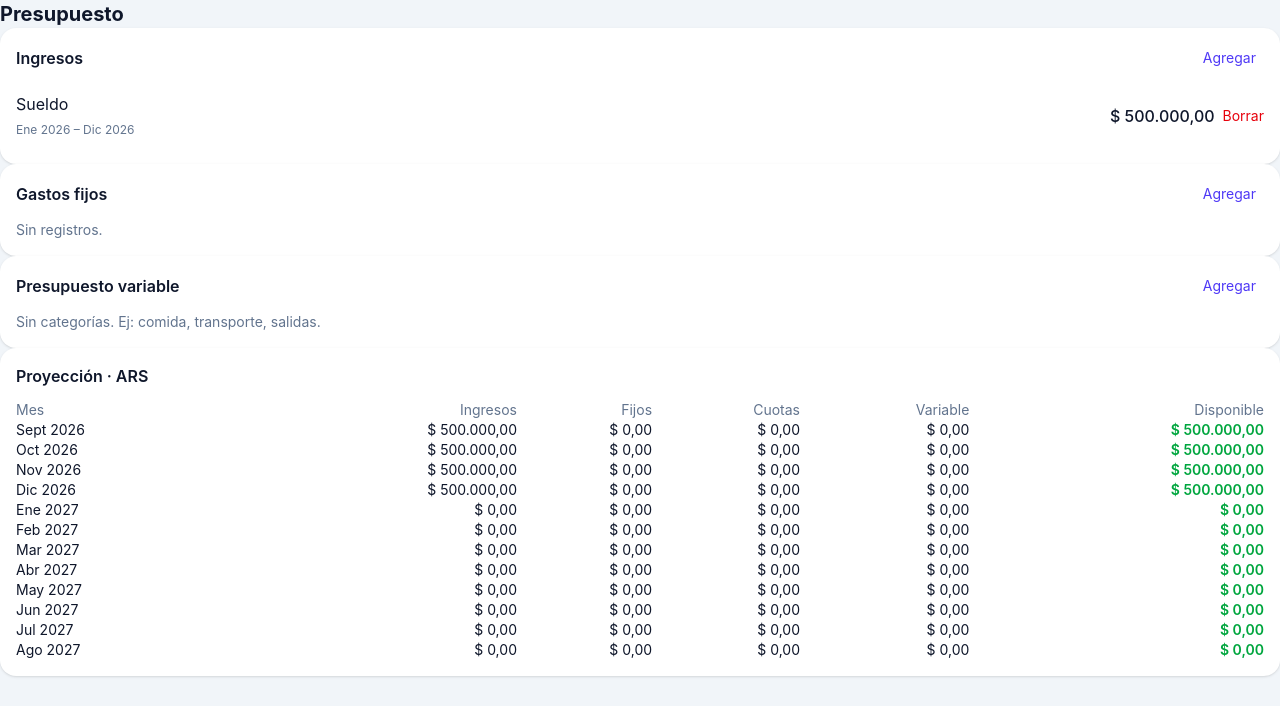
Scenario: BudgetPage › editar un ingreso y vaciar Mes de fin lo deja sin fin
Click the button "Sueldo ene 2026 – dic 2026": [42, 104] box [16,92,1102,140]
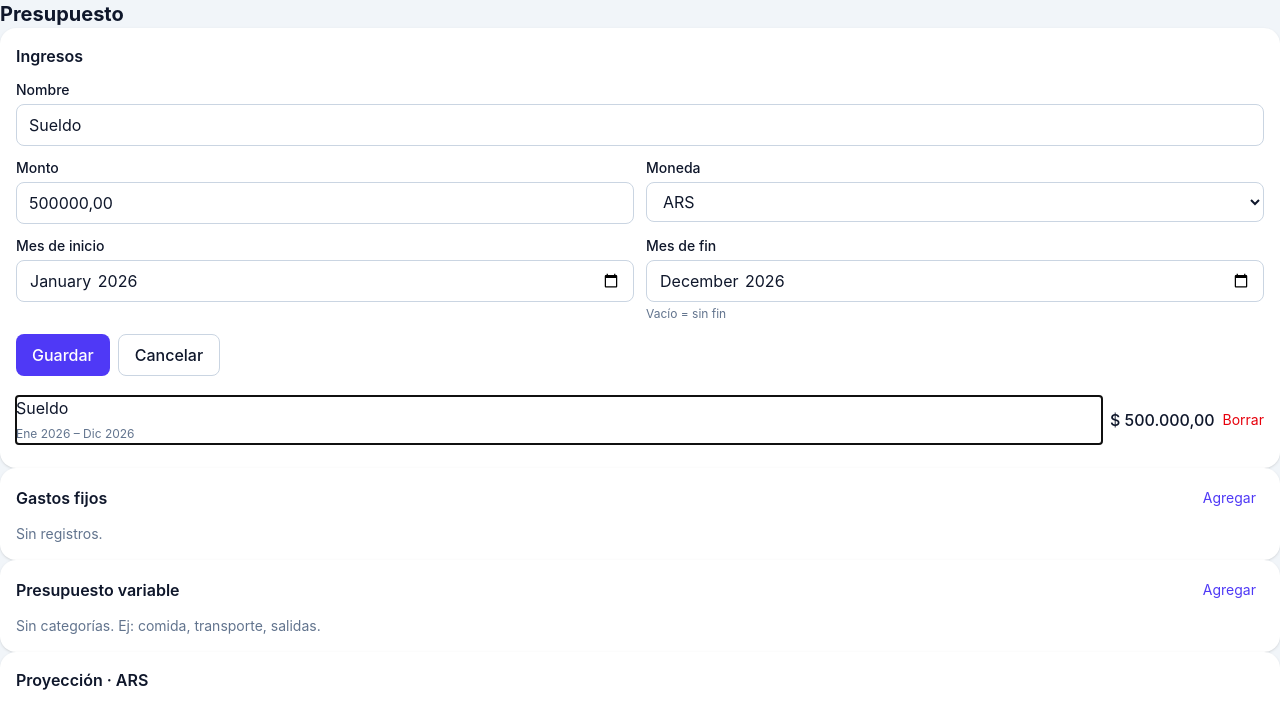
Expected: the field labelled "Mes de fin" holds "2026-12"
Clear the field labelled "Mes de fin": [955, 281] box [646,260,1264,302]
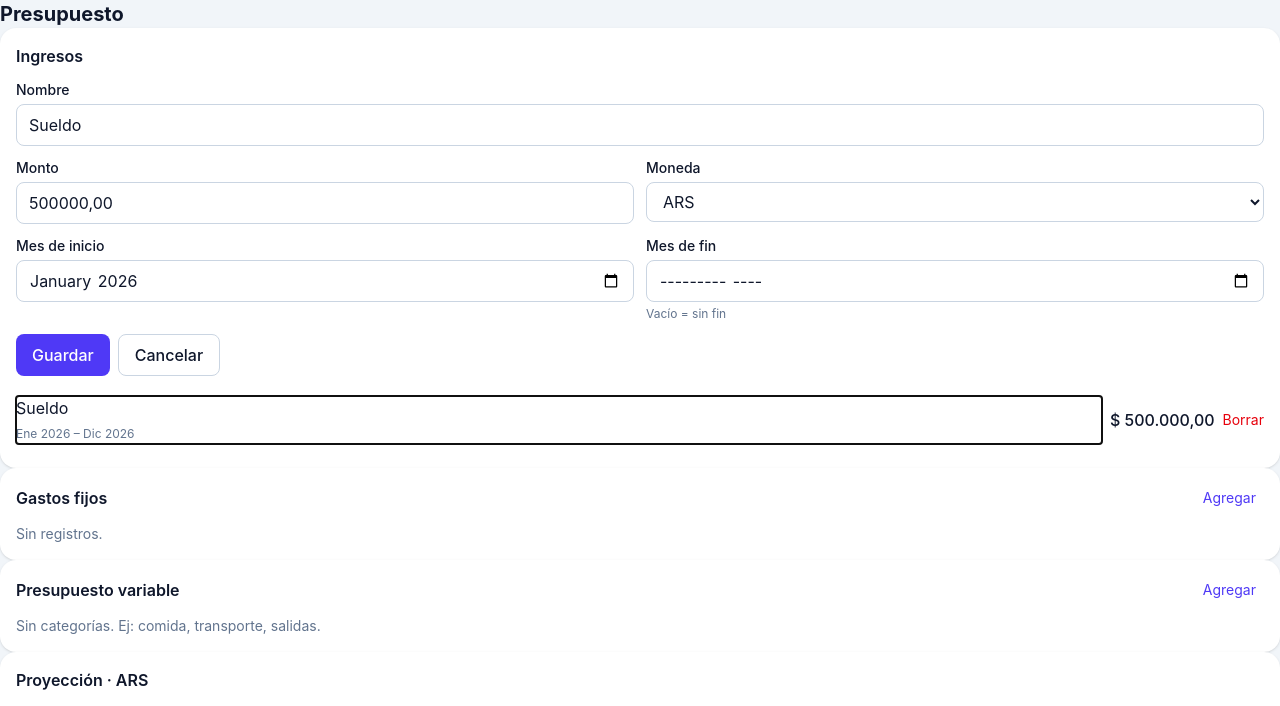
Click the button "Guardar": [63, 355] box [16,334,110,376]
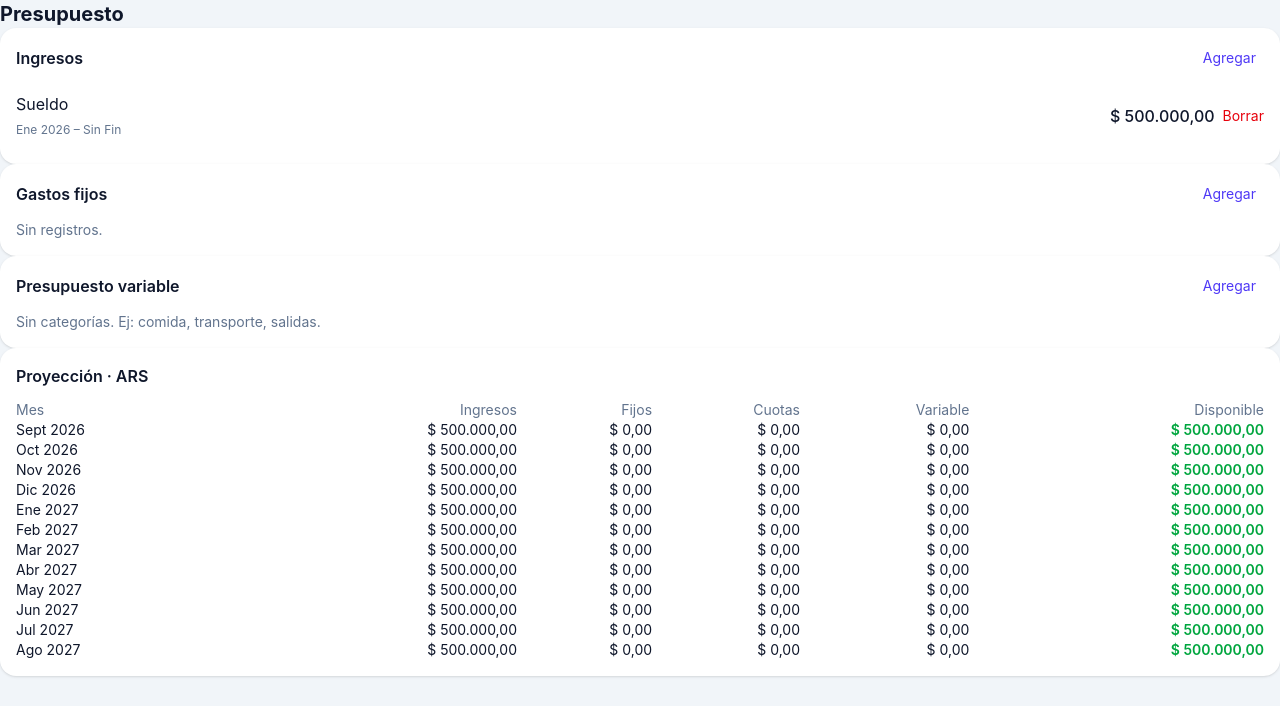
Expected: the button "Sueldo ene 2026 – sin fin" is shown, [16,92,1102,140]
